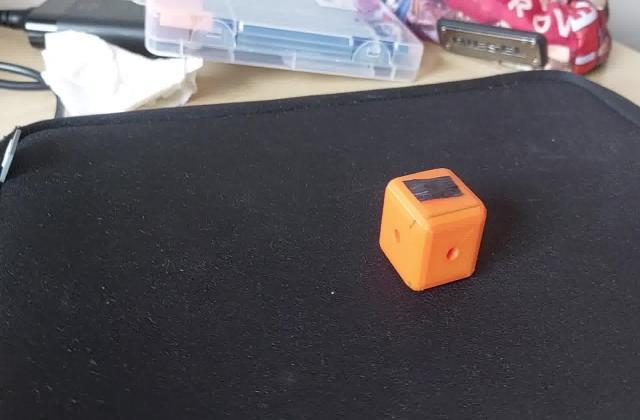black: (400, 172, 460, 206)
cube: (378, 167, 492, 298)
